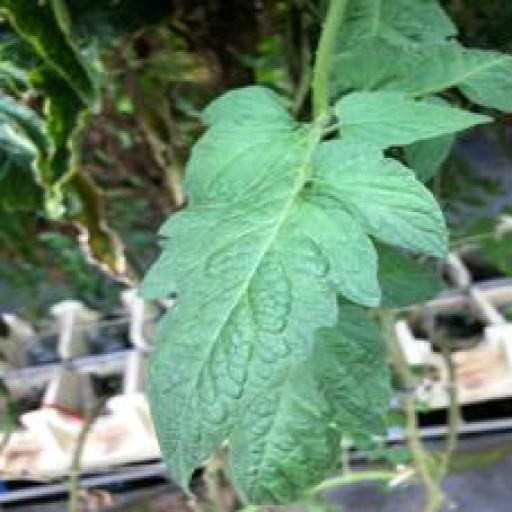Healthy: (134, 82, 450, 502), (332, 88, 498, 144)
